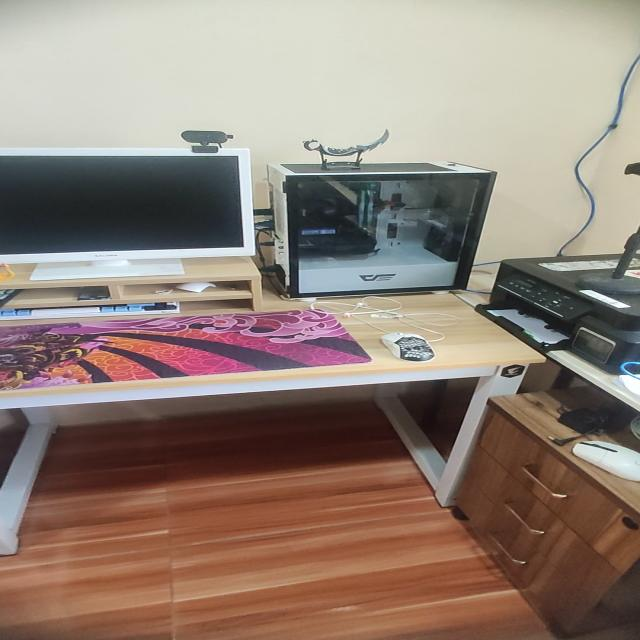table: (0, 284, 547, 566)
